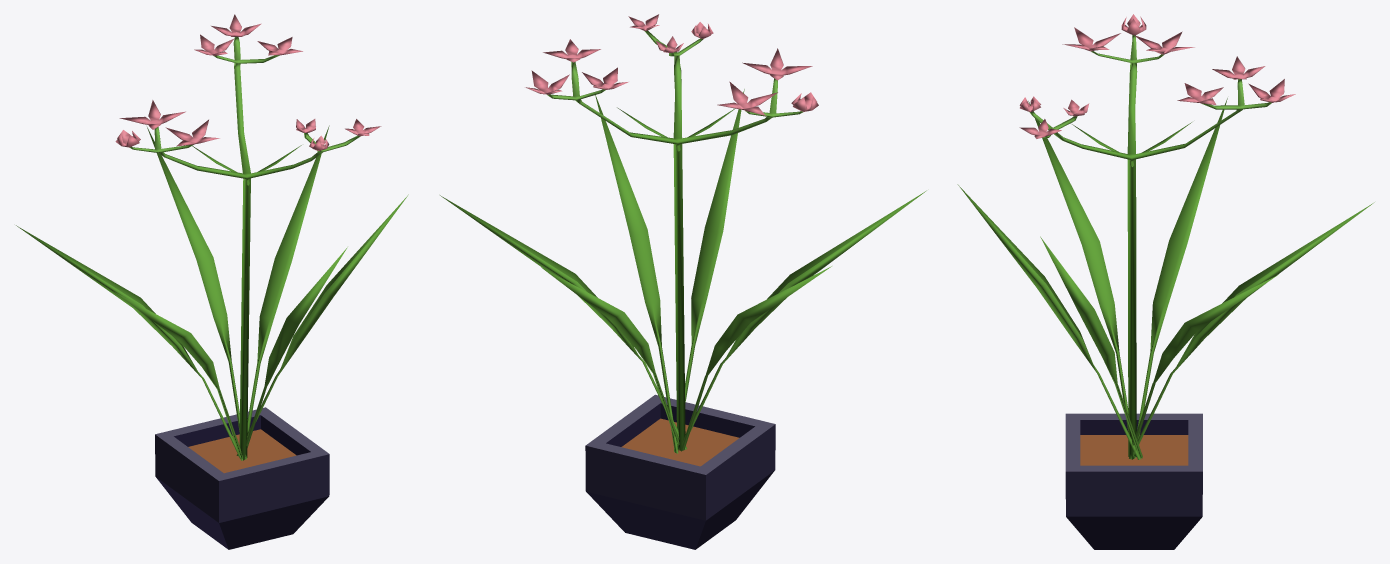
Rendered from pfp12.fbx.
The picture shows the model from 3 angles, left to right: view 1: azimuth 30°, elevation 25°; view 2: azimuth 150°, elevation 25°; view 3: azimuth 270°, elevation 25°; orthographic projection. The views are drawn at different scales.
Parts seen in each view (by area): view 1: pfp12; view 2: pfp12; view 3: pfp12.
Part boxes in pixels (<box>): pfp12: <box>16,14,408,549</box>; pfp12: <box>440,14,926,549</box>; pfp12: <box>957,14,1374,549</box>.
Bounding box in the file's own units: 61.69 × 77.22 × 61.44.
